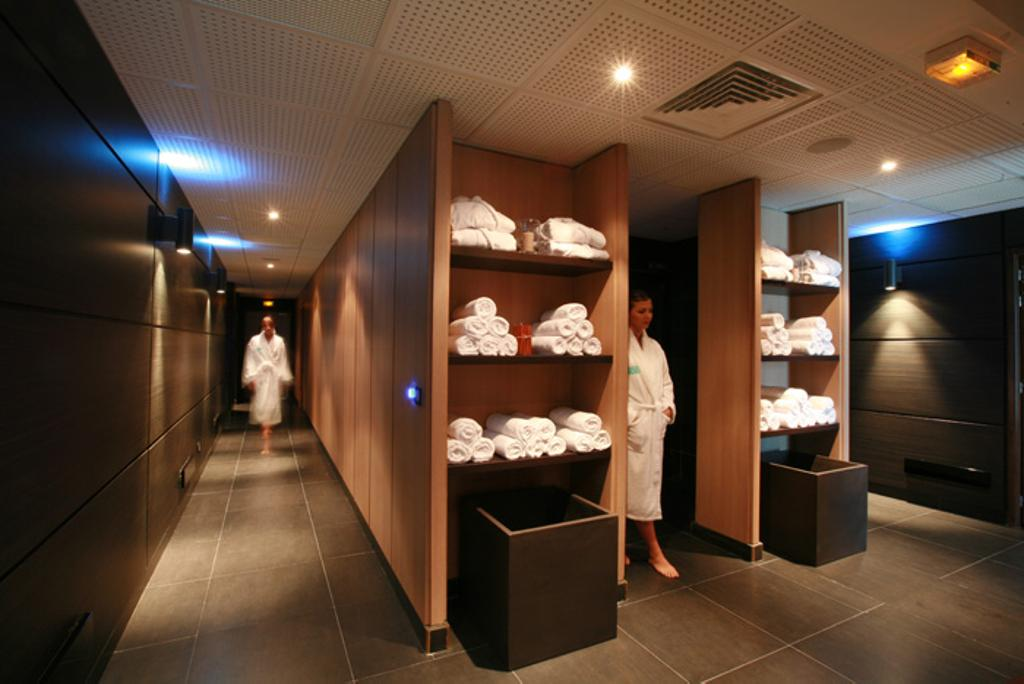face: (631, 299, 653, 328), (261, 320, 274, 335)
